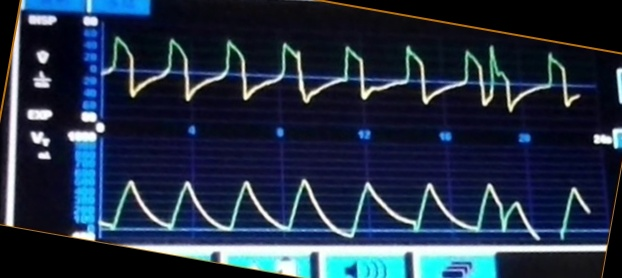Double_Triggering Flow: (116, 36, 579, 113)
Double_Triggering Volume: (120, 158, 592, 242)
